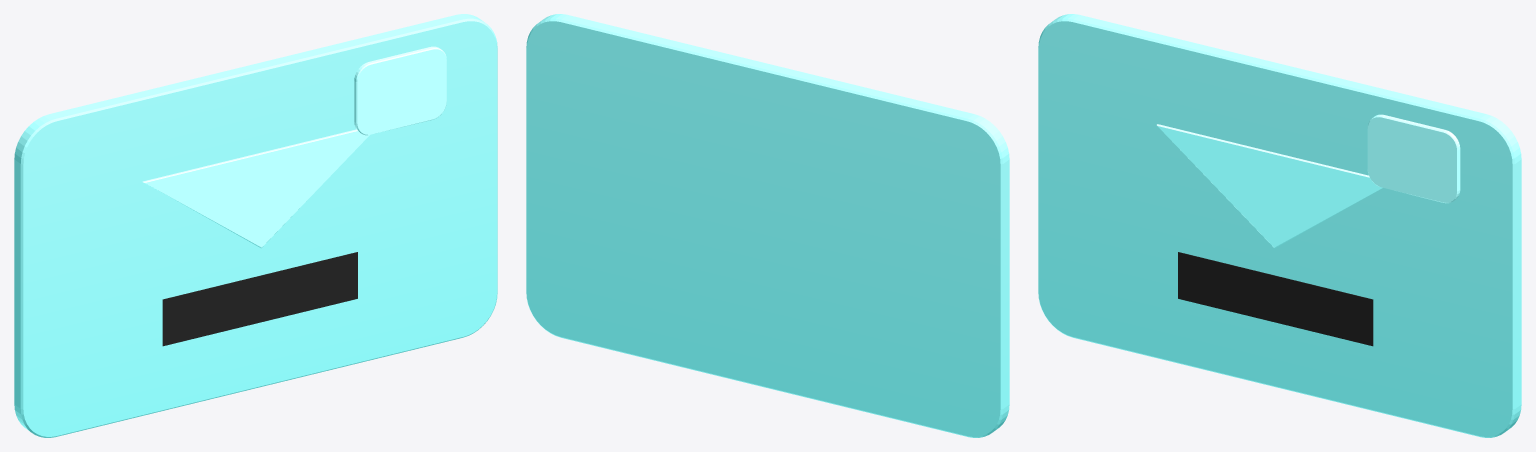
The model's file is network-packet.gltf.
3 views of the same model, side by side, from view 1: azimuth 30°, elevation 25°; view 2: azimuth 150°, elevation 25°; view 3: azimuth 330°, elevation 25° (orthographic).
Visible parts, largest first — view 1: packet_body, packet_flap, packet_text_front, packet_stamp; view 2: packet_body; view 3: packet_body, packet_flap, packet_text_front, packet_stamp.
Part boxes in pixels (x1,y1,x2,y2): packet_body: (14,14,497,437); packet_flap: (142,129,369,248); packet_text_front: (162,252,357,346); packet_stamp: (354,46,446,135); packet_body: (526,14,1009,437); packet_body: (1038,14,1521,437); packet_flap: (1157,124,1382,248); packet_text_front: (1178,252,1373,346); packet_stamp: (1367,114,1460,203).
Bounding box in the file's own units: 0.856 × 0.546 × 0.034.
